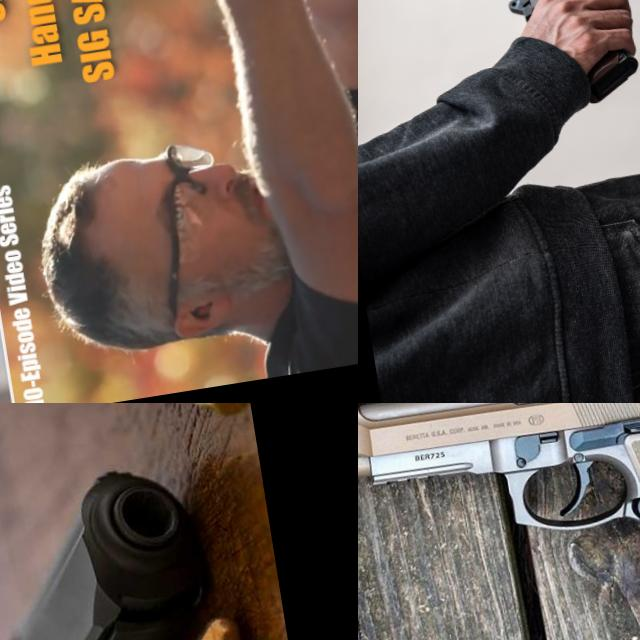handgun: (358, 403, 640, 640), (0, 452, 271, 640), (358, 403, 640, 573), (485, 0, 640, 88), (113, 0, 238, 99), (0, 102, 45, 271)
